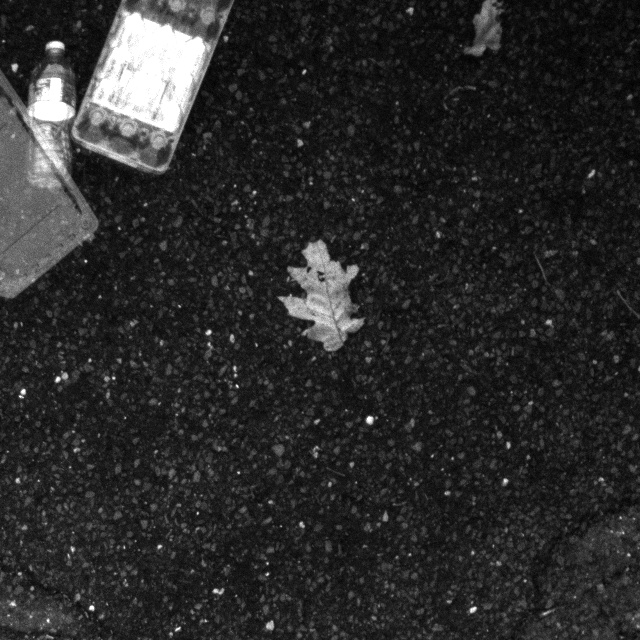bottle: (5, 42, 79, 197)
container: (0, 61, 115, 388), (76, 0, 241, 186)
